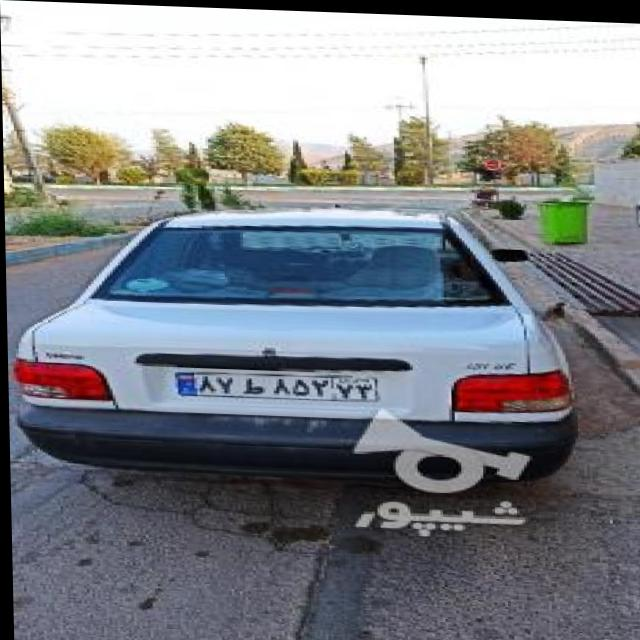licence: (165, 368, 370, 400)
